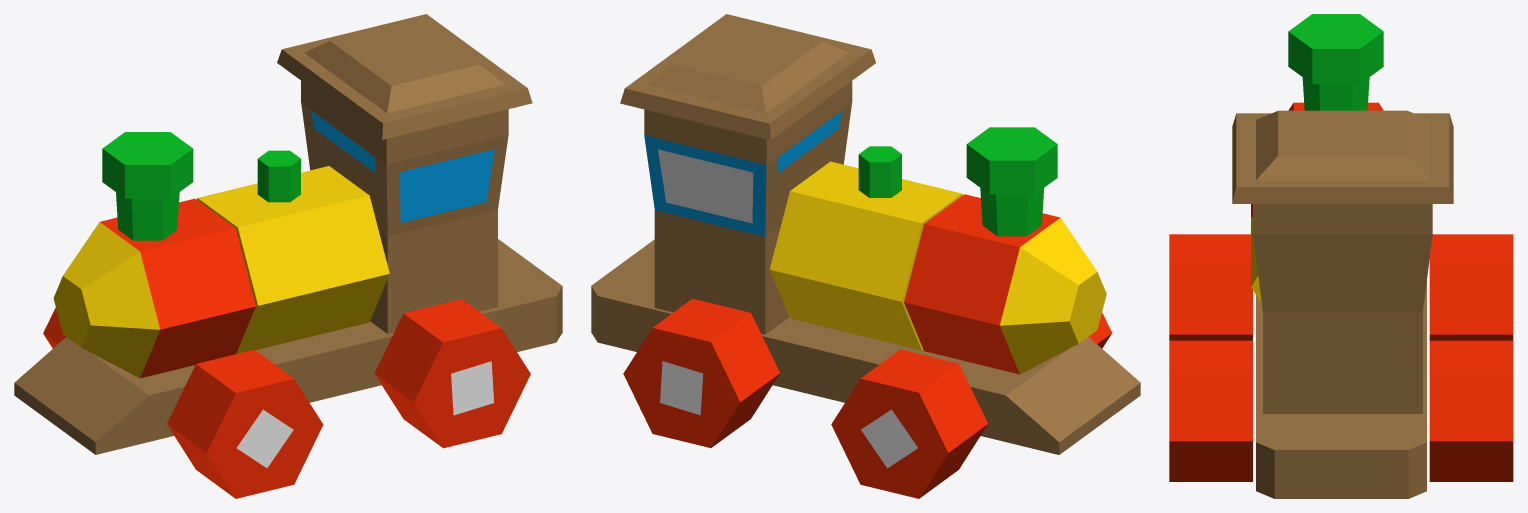
Rendered from Objet3_04.glb.
The picture shows the model from 3 angles, left to right: view 1: azimuth 30°, elevation 25°; view 2: azimuth 150°, elevation 25°; view 3: azimuth 270°, elevation 25°; orthographic projection. The views are drawn at different scales.
Parts seen in each view (by area): view 1: Locomotive; view 2: Locomotive; view 3: Locomotive.
Part boxes in pixels (x1,y1,x2,y2): Locomotive: (14,14,562,498); Locomotive: (591,14,1140,498); Locomotive: (1169,14,1513,498).
Size of the model in its own units: 52.63 by 34.3 by 31.4.
Materials: 1 (1 with a texture image).
